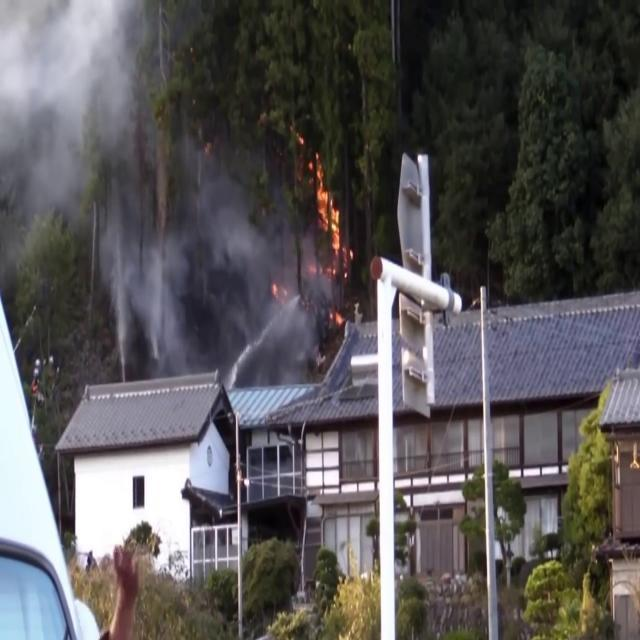Fire: (304, 148, 358, 322)
Smoke: (104, 121, 330, 382), (2, 0, 170, 246)
